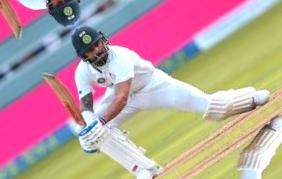batsman: (26, 30, 281, 145)
